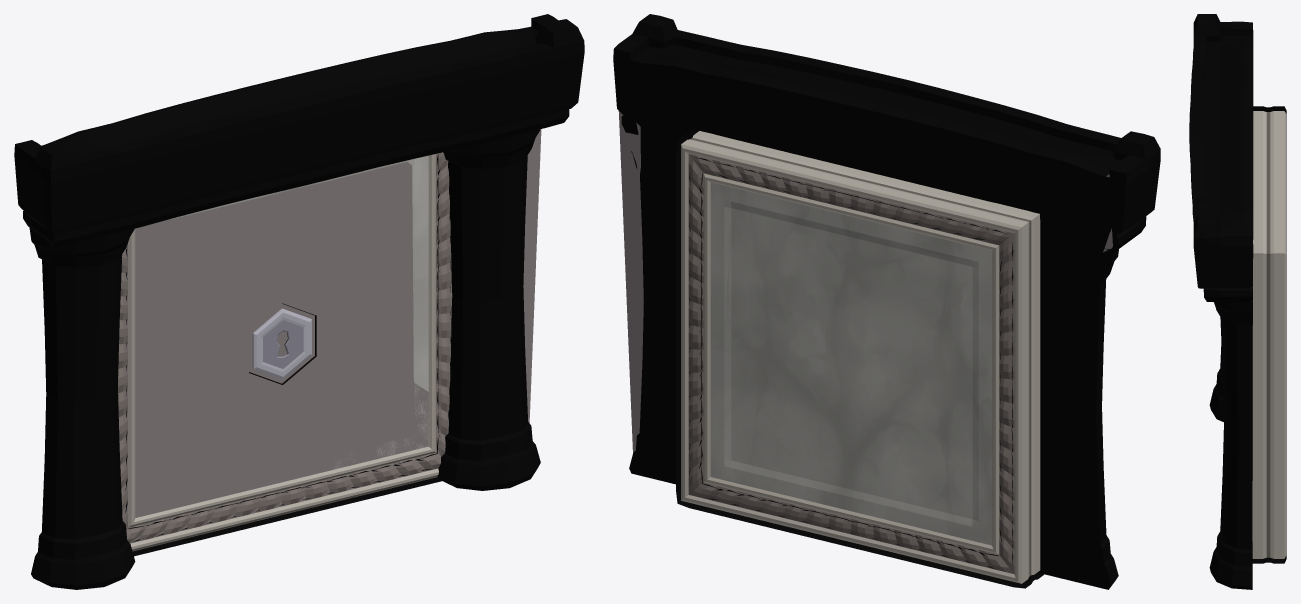
File: door.fbx
3 renders of one model, left to right at view 1: azimuth 30°, elevation 25°; view 2: azimuth 150°, elevation 25°; view 3: azimuth 270°, elevation 25°, orthographic. The views are drawn at different scales.
Visible parts, largest first — view 1: doorframe_outline, doorframe, door, door_outline; view 2: door, doorframe_outline, door_outline, doorframe; view 3: doorframe_outline, door, door_outline, doorframe.
Boxes of the visible parts, <box> form: doorframe_outline: <box>14,14,584,589</box>; doorframe: <box>123,129,541,551</box>; door: <box>118,152,452,550</box>; door_outline: <box>125,154,450,556</box>; door: <box>681,131,1040,583</box>; doorframe_outline: <box>613,14,1160,589</box>; door_outline: <box>676,126,1043,588</box>; doorframe: <box>618,111,1112,452</box>; doorframe_outline: <box>1189,14,1253,589</box>; door: <box>1252,111,1286,558</box>; door_outline: <box>1252,106,1286,563</box>; doorframe: <box>1252,287,1252,541</box>.
Bounding box in the file's own units: 1589 × 1284 × 304.
